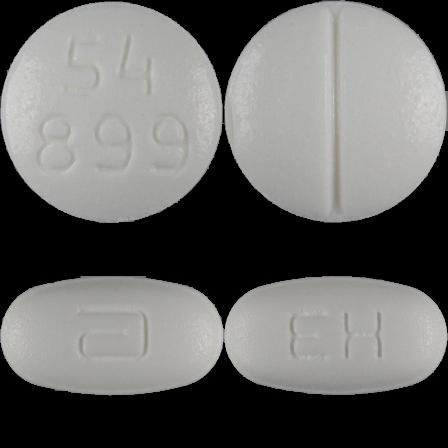54868-0836: (0, 0, 224, 224)
